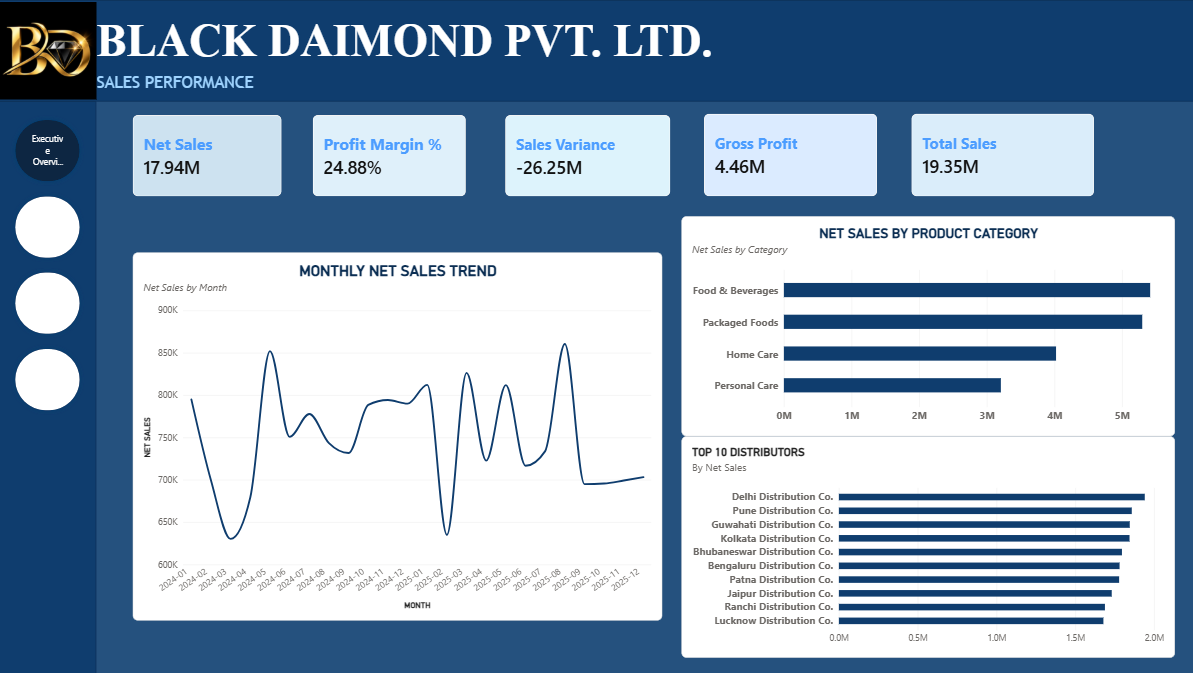

What the dashboard file says about the page in this screenshot:
{"tool":"powerbi","page":{"name":"Executive Overview","canvas":[1920,1080],"ordinal":0},"visuals":[{"type":"cardVisual","fields":{"Data":["SalesLines.Profit Margin %"]},"box":[501.3,183.5,245.3,130.1],"z":0},{"type":"cardVisual","fields":{"Data":["SalesLines.Net Sales"]},"box":[213.3,183.5,238.9,130.1],"z":1000},{"type":"cardVisual","fields":{"Data":["SalesLines.Total Sales"]},"box":[1459.2,181.3,292.3,132.3],"z":2000},{"type":"cardVisual","fields":{"Data":["SalesLines.Gross Profit"]},"box":[1128.5,181.3,277.3,132.3],"z":3000},{"type":"lineChart","title":"MONTHLY NET SALES TREND","fields":{"Category":["Calendar.YearMonth"],"Y":["SalesLines.Net Sales"]},"box":[213.3,403.2,846.9,588.8],"z":4000},{"type":"clusteredBarChart","title":"NET SALES BY PRODUCT CATEGORY","fields":{"Category":["Products.Category"],"Y":["SalesLines.Net Sales"]},"box":[1092.3,345.6,789.3,352],"z":5000},{"type":"clusteredBarChart","title":"TOP 10 DISTRIBUTORS","fields":{"Category":["Distributors.DistributorName"],"Y":["SalesLines.Net Sales"]},"box":[1092.3,697.6,789.3,354.1],"z":6000},{"type":"cardVisual","fields":{"Data":["SalesTargets.Sales Variance"]},"box":[810.7,183.5,264.5,130.1],"z":7000},{"type":"shape","box":[0,0,1919.6,162.3],"z":8000},{"type":"textbox","box":[155.6,23.5,1046,94.1],"z":9000},{"type":"textbox","box":[155.6,115.8,418,34.4],"z":10000},{"type":"shape","box":[0,162.9,155.6,917.5],"z":11000},{"type":"pageNavigator","box":[17.1,183.5,119.5,480],"z":12000},{"type":"image","box":[0,0,156,162],"z":13000}]}

Visuals, with their boxes in screenshot pixels (x1, y1, x2, y2), scaled from the page's 1920x1080 canvas onto the 1193x673 screenshot:
cardVisual - SalesLines.Profit Margin %: <bbox>311, 114, 464, 195</bbox>
cardVisual - SalesLines.Net Sales: <bbox>133, 114, 281, 195</bbox>
cardVisual - SalesLines.Total Sales: <bbox>907, 113, 1088, 195</bbox>
cardVisual - SalesLines.Gross Profit: <bbox>701, 113, 873, 195</bbox>
"MONTHLY NET SALES TREND" lineChart: <bbox>133, 251, 659, 618</bbox>
"NET SALES BY PRODUCT CATEGORY" clusteredBarChart: <bbox>679, 215, 1169, 435</bbox>
"TOP 10 DISTRIBUTORS" clusteredBarChart: <bbox>679, 435, 1169, 655</bbox>
cardVisual - SalesTargets.Sales Variance: <bbox>504, 114, 668, 195</bbox>
shape: <bbox>0, 0, 1192, 101</bbox>
textbox: <bbox>97, 15, 747, 73</bbox>
textbox: <bbox>97, 72, 356, 94</bbox>
shape: <bbox>0, 102, 97, 672</bbox>
pageNavigator: <bbox>11, 114, 85, 413</bbox>
image: <bbox>0, 0, 97, 101</bbox>
